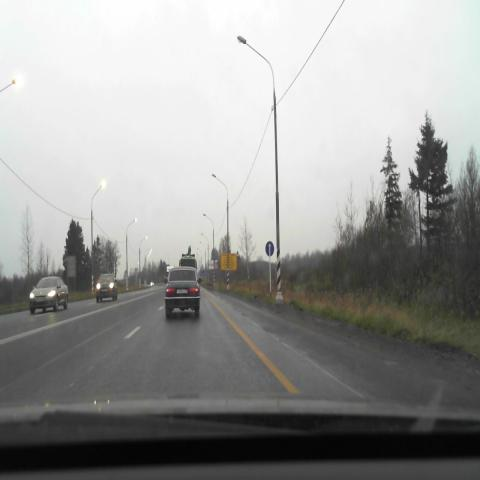4_1_1: (265, 240, 274, 256)
